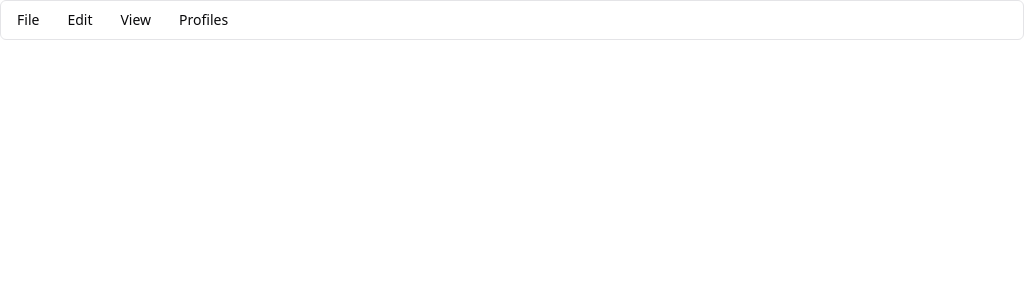
Test: <MenuBar /> › should render component successfully
Click the menu item "File".
click(28, 20)  # box [5, 4, 51, 36]
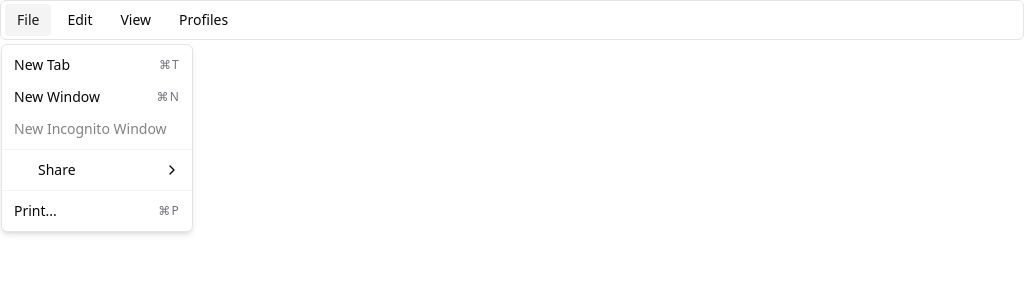
expect the menu item "New Tab ⌘T" is shown: met, box [14, 55, 180, 74]
Hover over the menu item "View".
mouse_move(136, 20)  # box [108, 4, 163, 36]
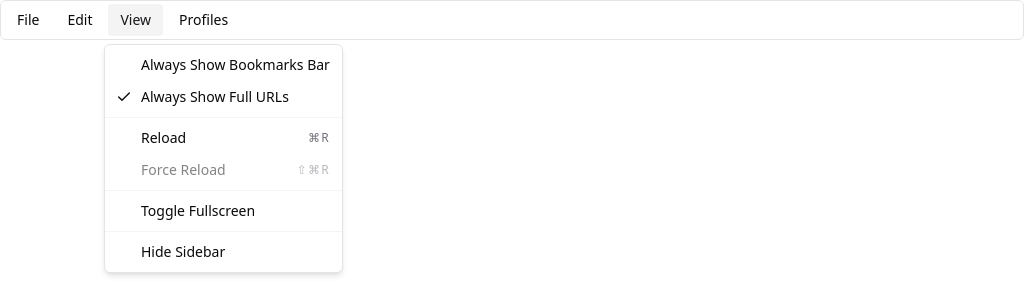
expect the menu item "Reload ⌘R" is shown: met, box [141, 128, 330, 147]
Hover over the menu item "Profiles".
mouse_move(204, 20)  # box [167, 4, 240, 36]
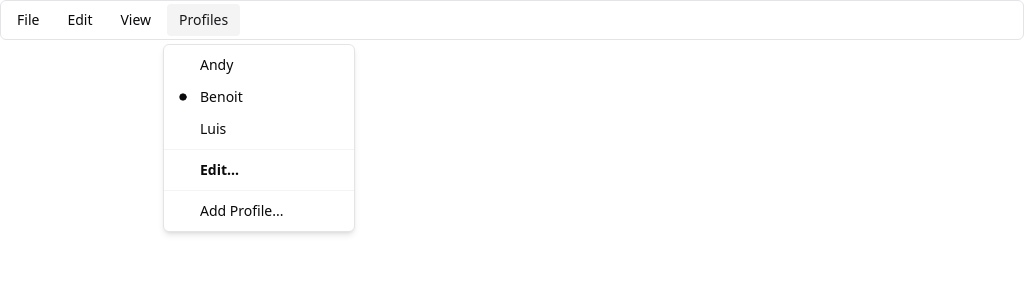
expect the menu item "Andy" is shown: met, box [200, 55, 233, 74]
expect the text "Edit..." is shown: met, box [200, 160, 239, 179]
